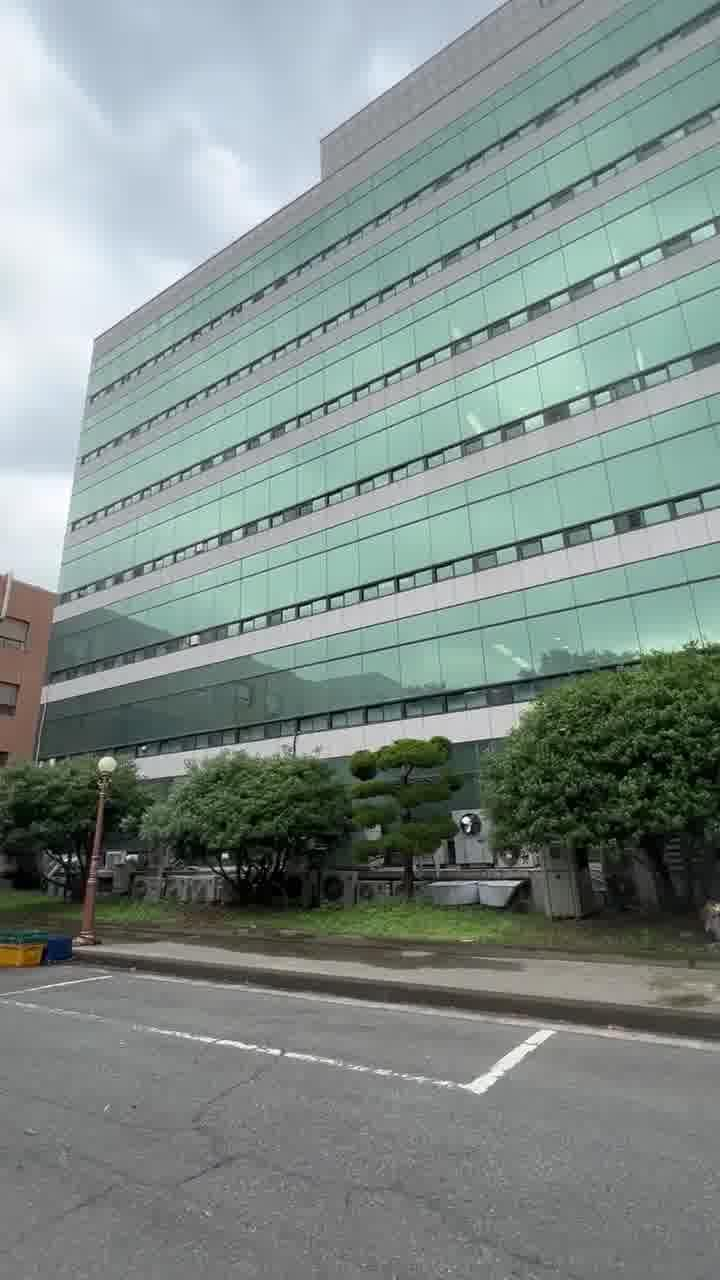building: (28, 48, 710, 642)
